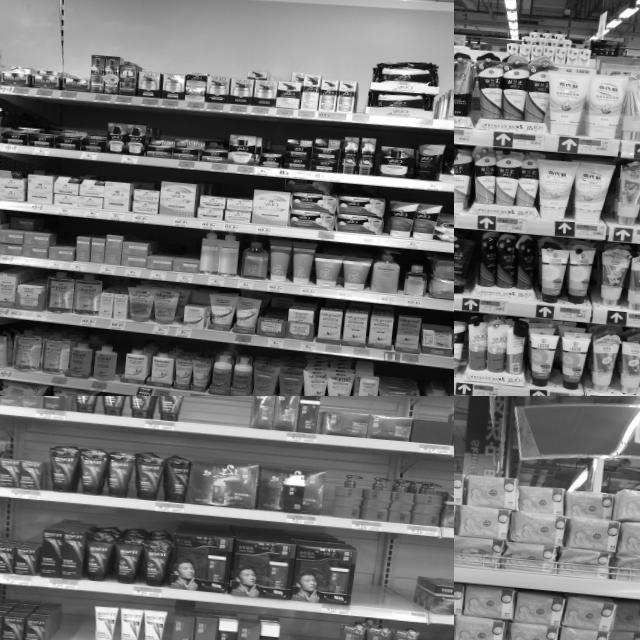Imprecise: (474, 230, 538, 308)
